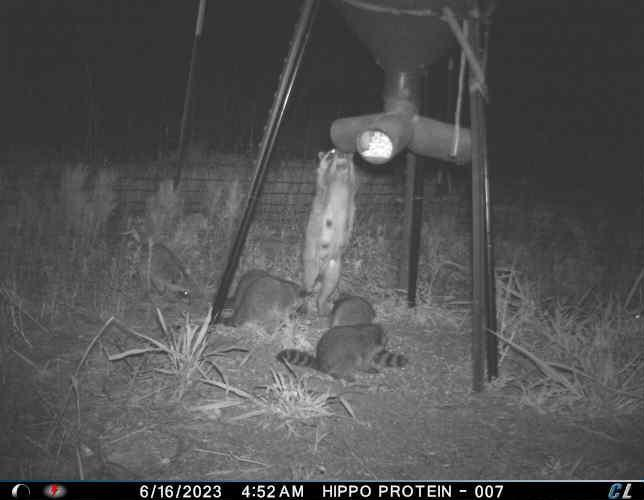Raccoon: (297, 147, 361, 318), (277, 324, 391, 379), (330, 294, 409, 367), (227, 268, 314, 332), (144, 239, 194, 309)
